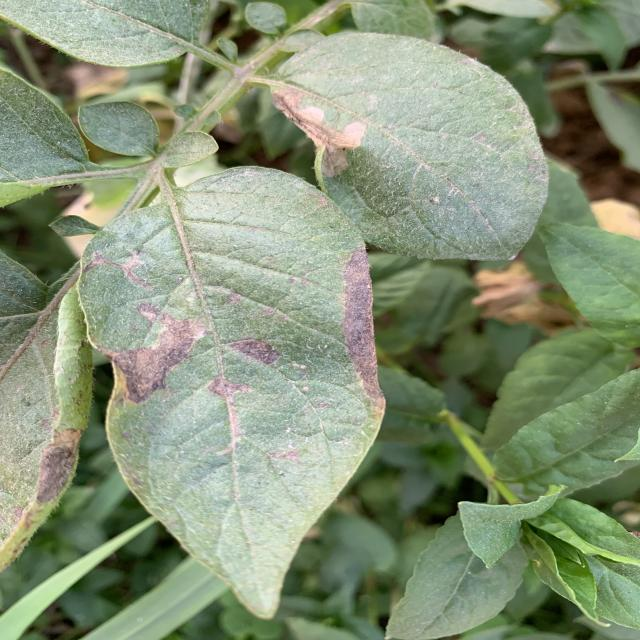lateblight: (96, 315, 207, 404), (341, 243, 380, 416), (228, 339, 281, 365), (209, 377, 251, 399), (137, 303, 159, 326), (226, 293, 244, 303)
